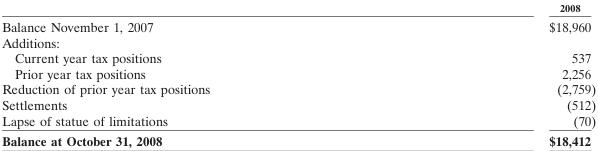table: (1, 1, 595, 148)
table column: (1, 1, 378, 148), (378, 1, 595, 148)
table column header: (1, 1, 595, 16)
table projected row header: (1, 34, 595, 50)
table row: (1, 16, 595, 34), (1, 112, 595, 130), (1, 130, 595, 148), (1, 34, 595, 50), (1, 65, 595, 81), (1, 96, 595, 112), (1, 1, 595, 16), (1, 50, 595, 65), (1, 81, 595, 96)
